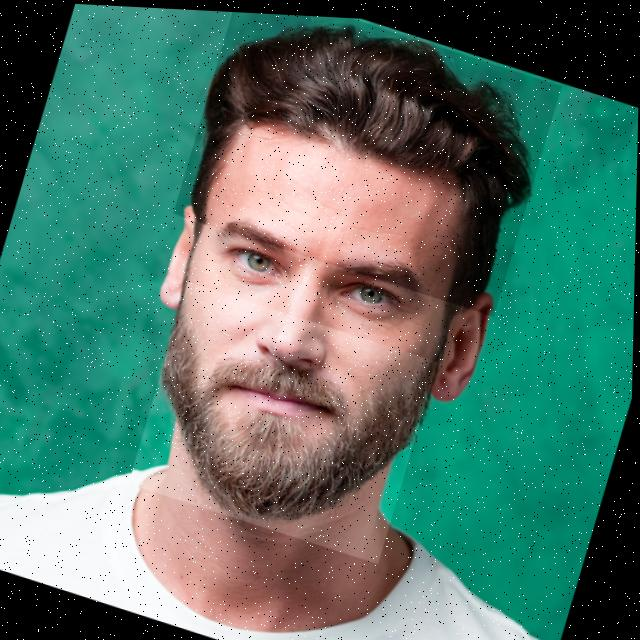beard: (165, 308, 438, 522)
hair: (193, 23, 533, 256)
